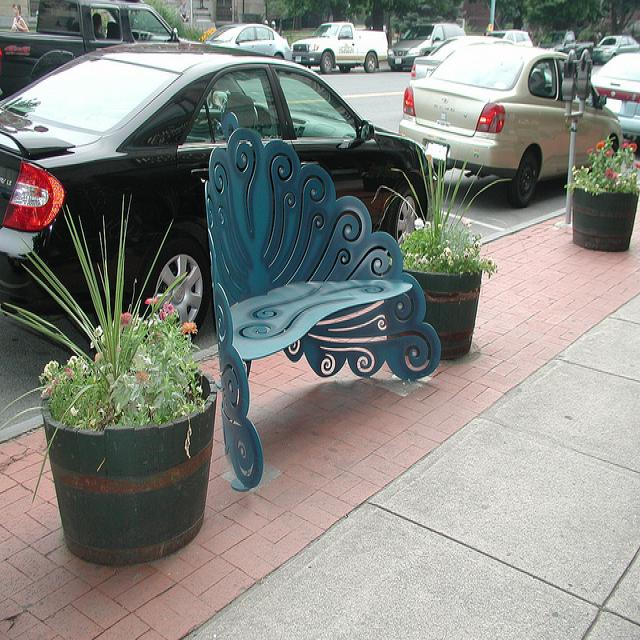Vehicle: (2, 43, 437, 334), (401, 43, 624, 206), (0, 6, 207, 115), (291, 21, 390, 76), (409, 33, 515, 83), (387, 19, 468, 71), (592, 51, 640, 138), (200, 22, 293, 64), (537, 30, 594, 63), (592, 33, 640, 63), (485, 29, 534, 46)
